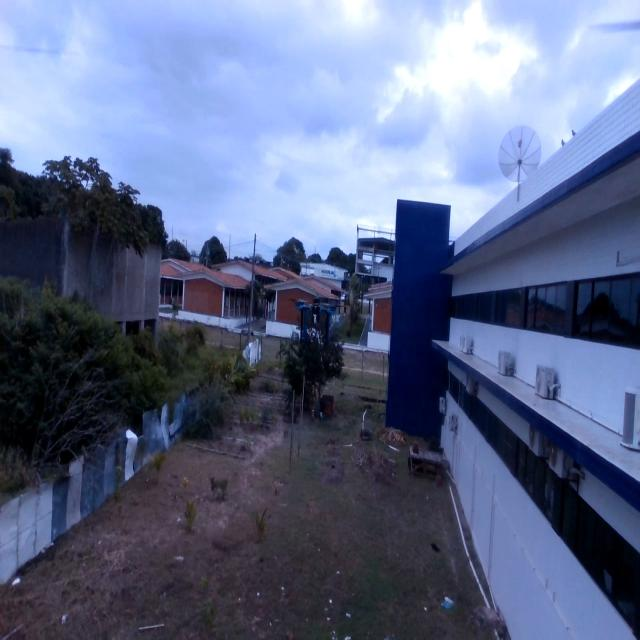-uav-: (282, 282, 352, 358)
